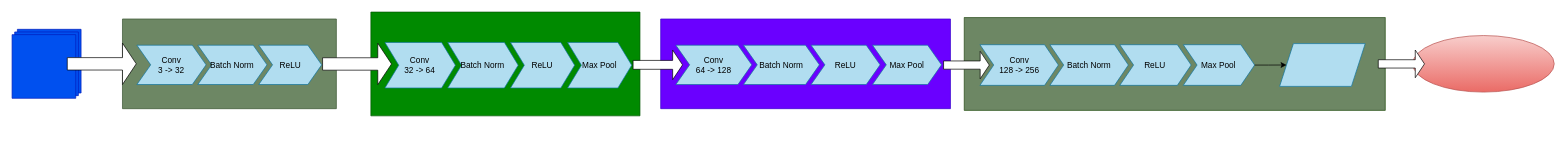
Some shapes in this 1566 by 152 pixel diagram are drawn without their labels. Each missing label, with the box of its shape:
BLOCK 1: (122, 18, 336, 109)
BLOCK 2: (370, 11, 640, 116)
BLOCK 3: (660, 18, 950, 109)
BLOCK 4: (964, 17, 1385, 110)
FC: (1412, 35, 1554, 92)
Flattening: (1279, 43, 1365, 86)
